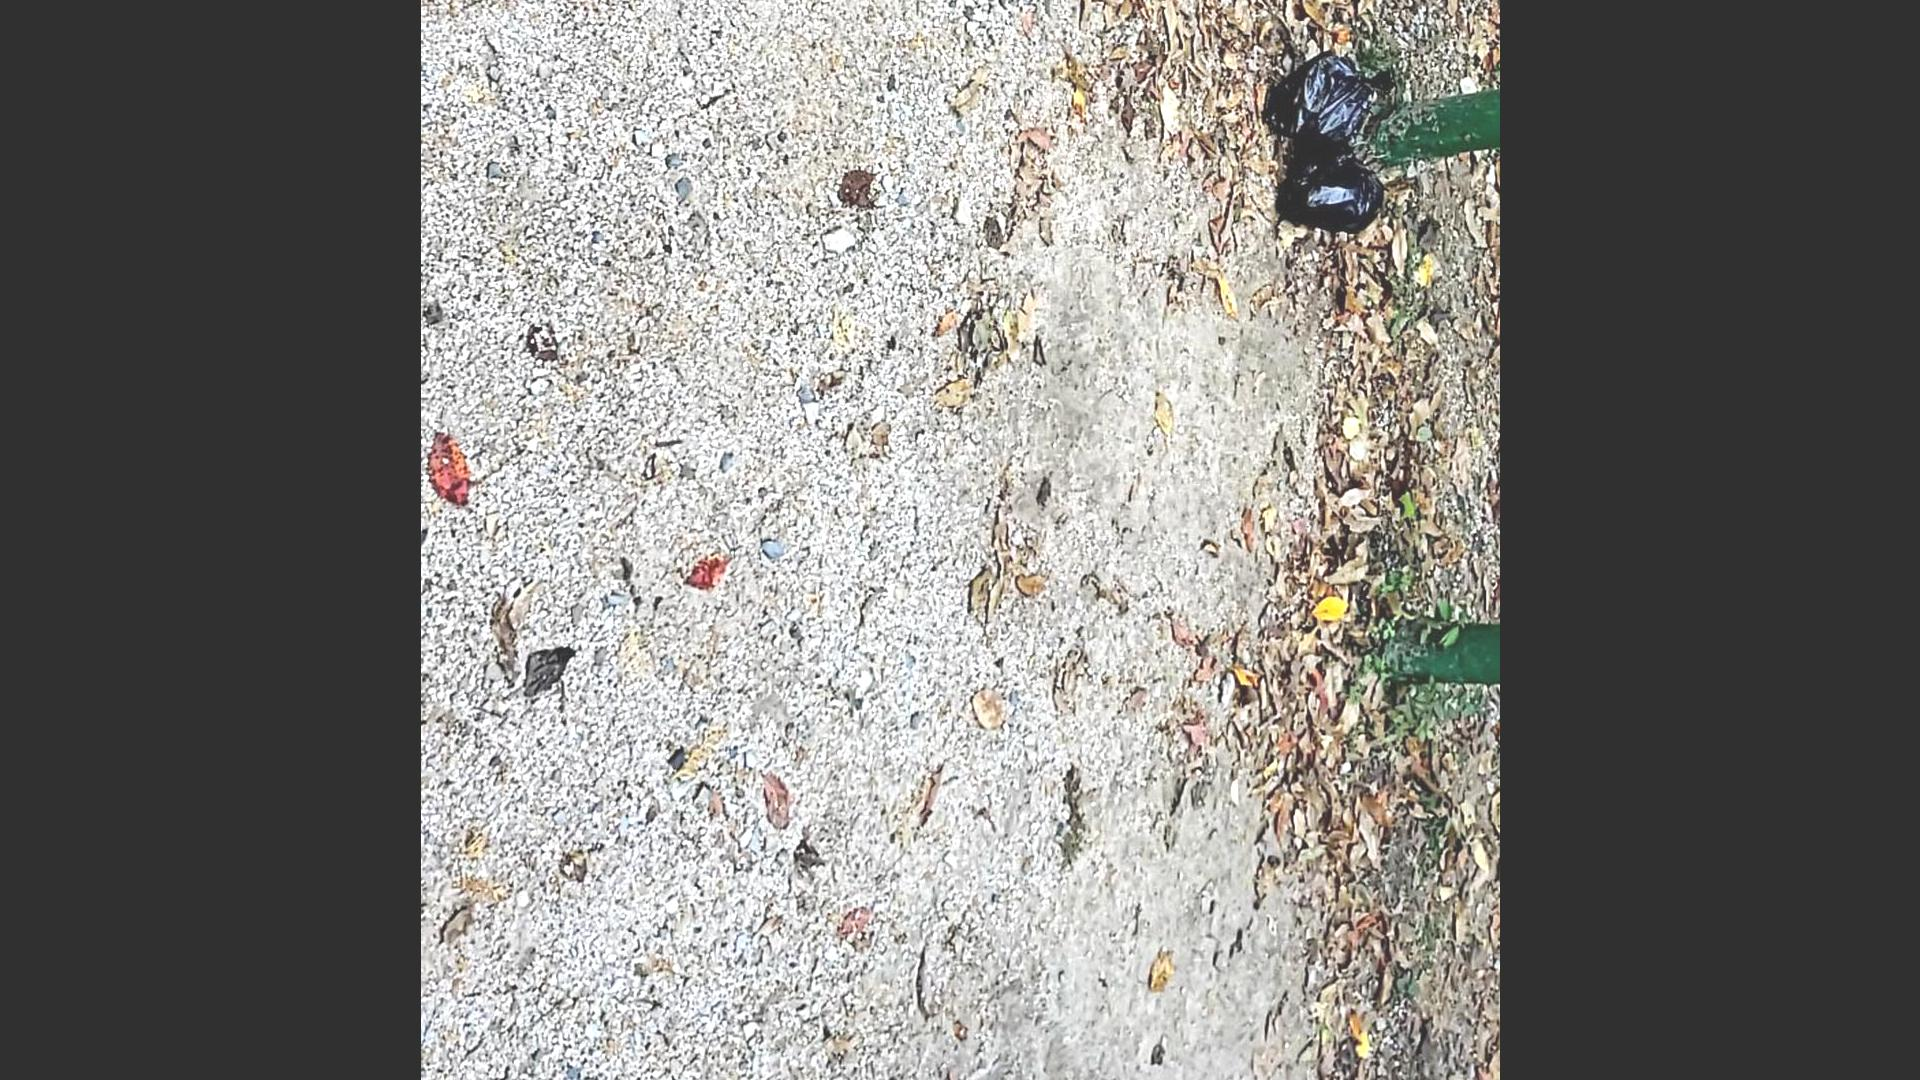black_bag: (1262, 42, 1389, 150), (1276, 141, 1389, 232)
